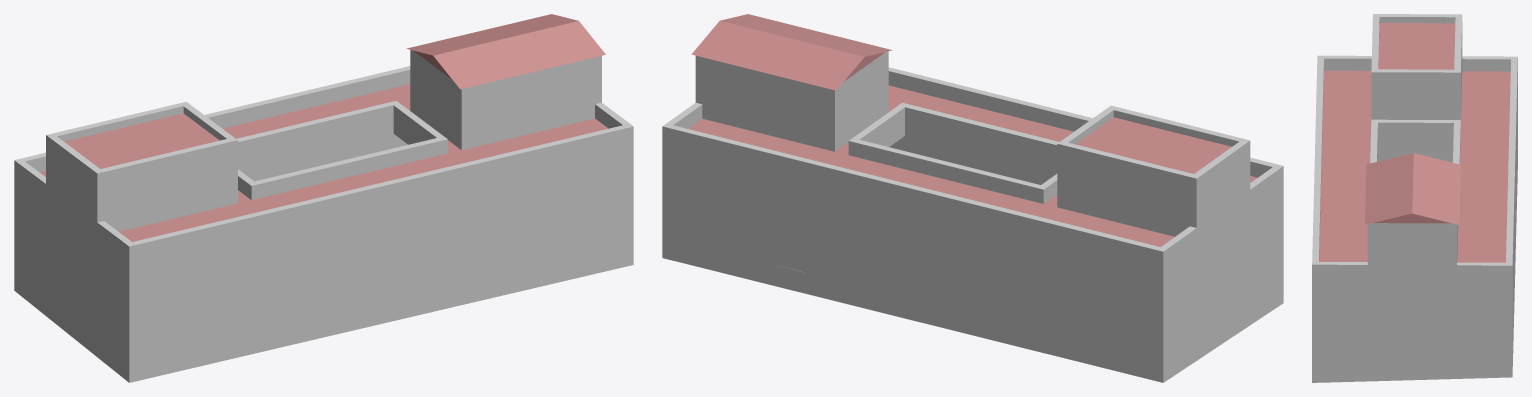
File: LOD_Block_4_31.glb
3 views of the same model, side by side, from view 1: azimuth 30°, elevation 25°; view 2: azimuth 150°, elevation 25°; view 3: azimuth 270°, elevation 25° (orthographic). The views are drawn at different scales.
Visible parts, largest first — view 1: mesh_CityEngineMaterial_490; view 2: mesh_CityEngineMaterial_490; view 3: mesh_CityEngineMaterial_490.
Part boxes in pixels (x1=…): mesh_CityEngineMaterial_490: x1=14, y1=14, x2=633, y2=382; mesh_CityEngineMaterial_490: x1=662, y1=14, x2=1283, y2=382; mesh_CityEngineMaterial_490: x1=1312, y1=14, x2=1517, y2=382.
Bounding box in the file's own units: 37.17 × 14.06 × 15.33.
